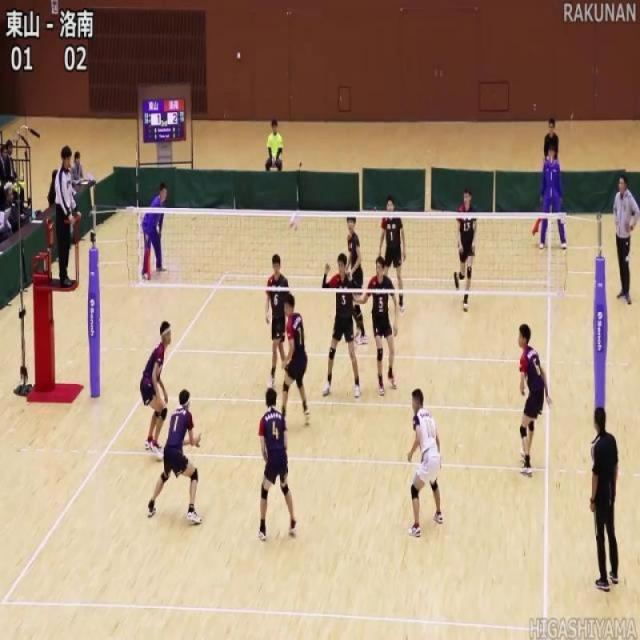volleyball: (288, 211, 300, 233)
